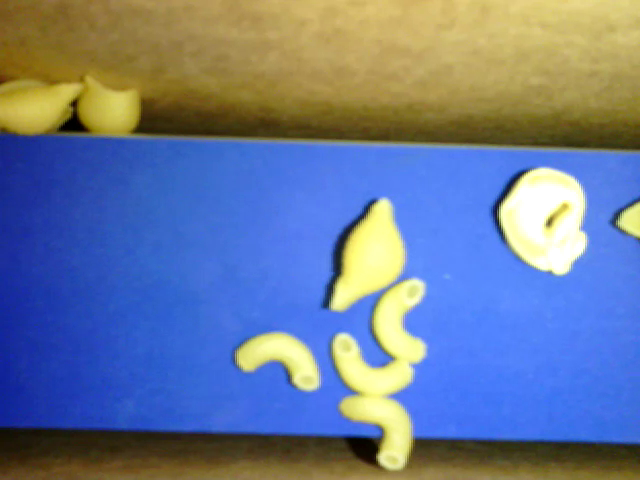elbow: (330, 328, 418, 399), (228, 329, 319, 394), (338, 394, 411, 473), (373, 276, 430, 362)
shell: (326, 194, 407, 309), (1, 75, 93, 132), (79, 73, 142, 136)
tortellini: (495, 166, 586, 276)
